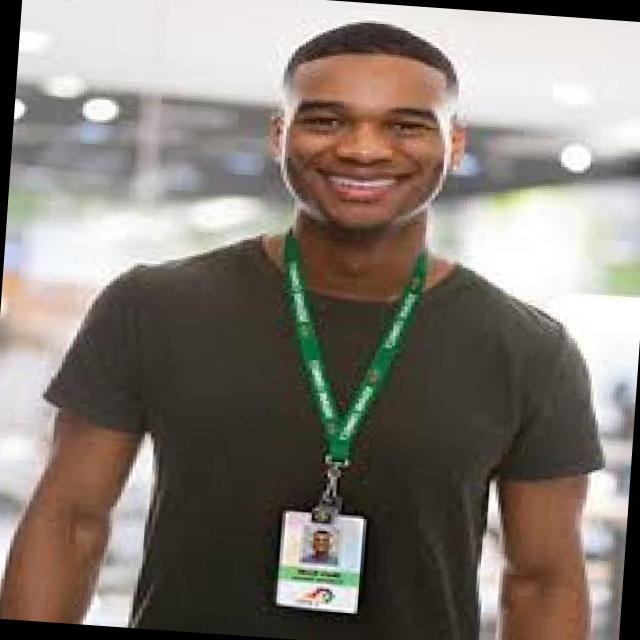id_card: (256, 228, 426, 615)
